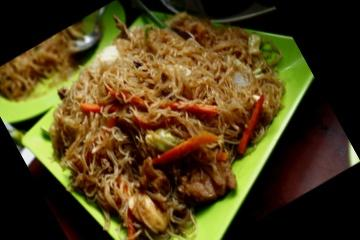pancit bihon: (54, 22, 288, 231)
